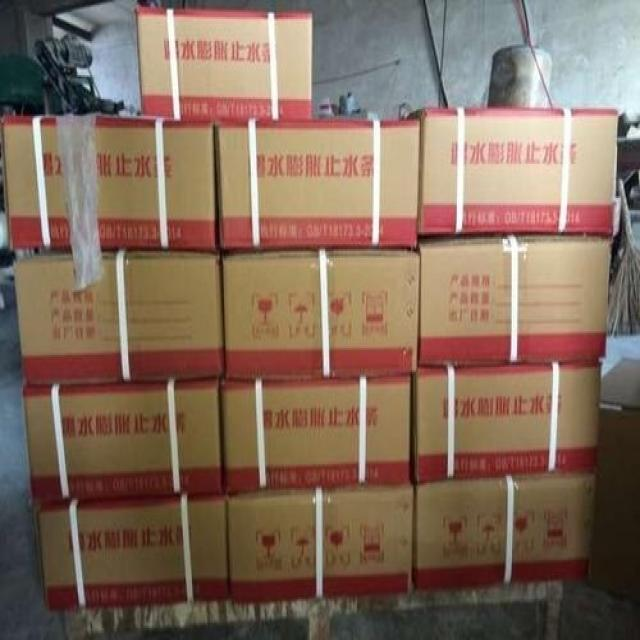box: (3, 119, 219, 251), (13, 250, 223, 384), (213, 120, 420, 252), (417, 238, 613, 373), (417, 111, 618, 242), (25, 375, 224, 507), (219, 249, 420, 375), (223, 372, 417, 494), (32, 495, 229, 615), (415, 360, 601, 484), (413, 469, 599, 591), (225, 484, 415, 599), (134, 9, 315, 123)
